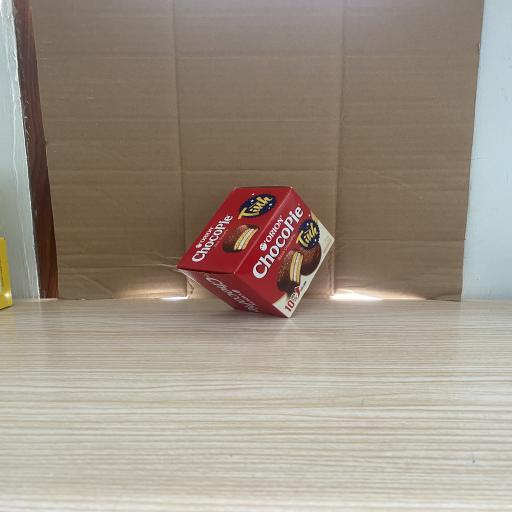chocopie: (176, 186, 334, 318)
